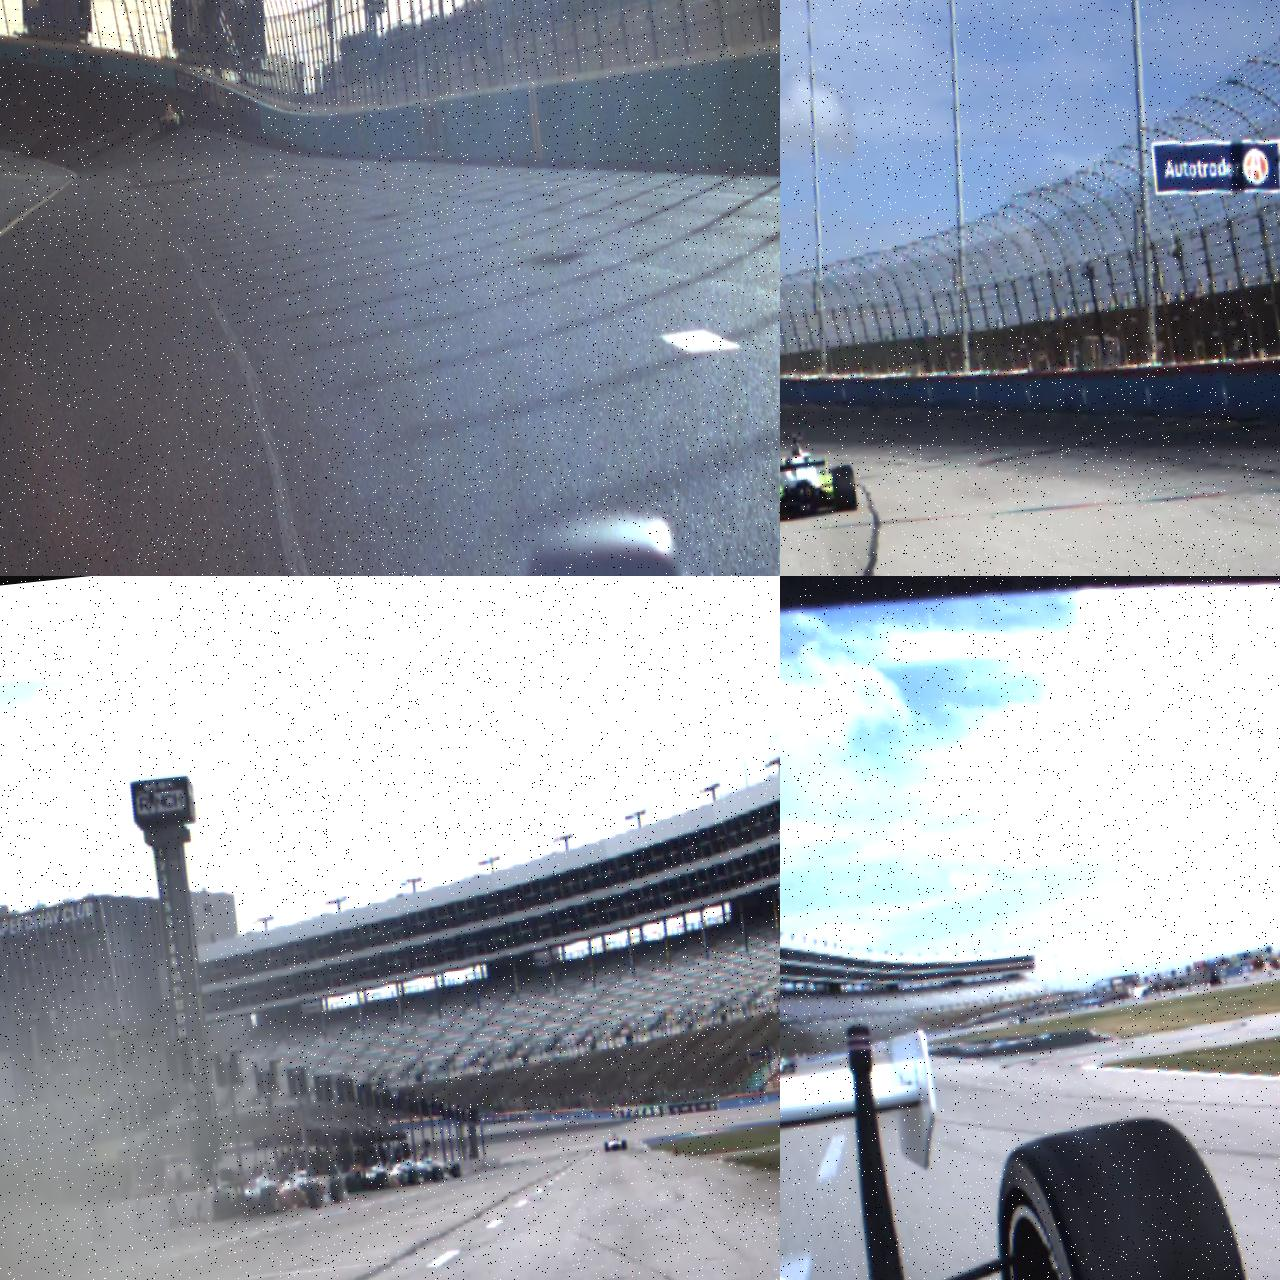AV: (780, 425, 858, 526), (157, 101, 186, 133), (604, 1132, 628, 1152), (780, 1054, 797, 1077)
Wheel: (986, 1108, 1257, 1280), (832, 464, 858, 514), (212, 1192, 233, 1220), (260, 1185, 280, 1214), (328, 1176, 344, 1203), (307, 1183, 323, 1209), (344, 1174, 362, 1194), (376, 1171, 390, 1190), (407, 1170, 419, 1186), (432, 1166, 443, 1182), (178, 109, 186, 127), (451, 1164, 461, 1178), (622, 1140, 628, 1150), (604, 1142, 610, 1152)
